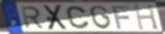C: (65, 5, 92, 30)
F: (110, 4, 132, 30)
G: (89, 5, 114, 31)
H: (132, 4, 160, 31)
R: (20, 6, 46, 30)
X: (42, 4, 70, 31)
